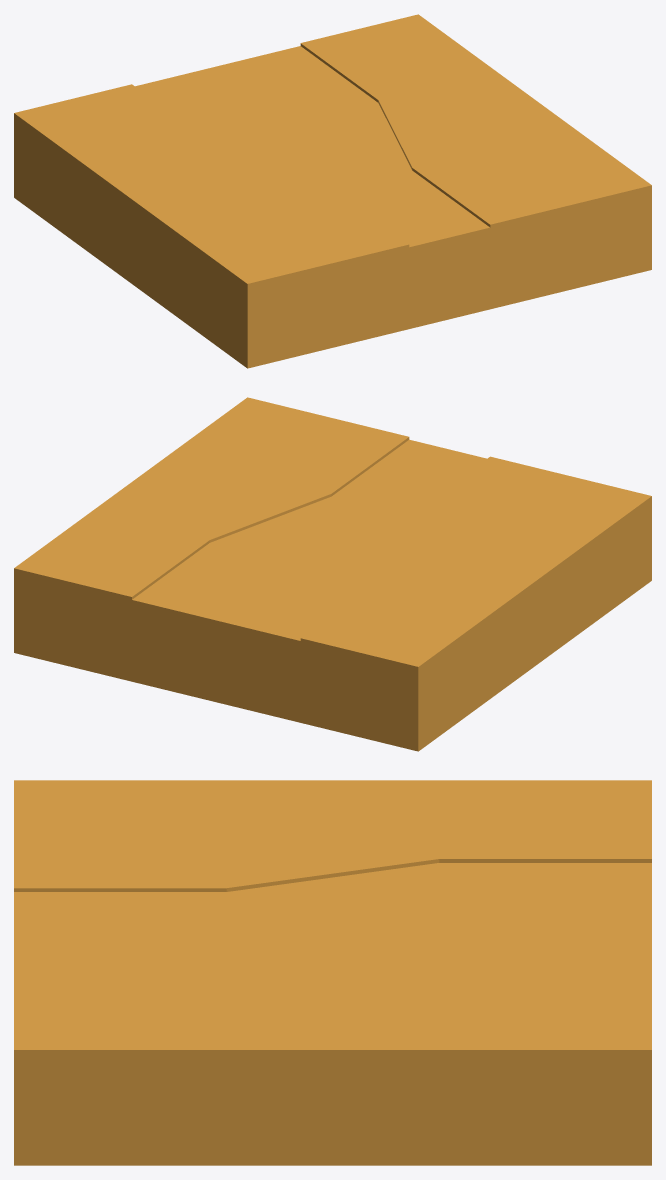
Rendered from tile-road-to-mainroad.glb.
The picture shows the model from 3 angles, top to bottom: view 1: azimuth 30°, elevation 25°; view 2: azimuth 150°, elevation 25°; view 3: azimuth 270°, elevation 25°; orthographic projection. The views are drawn at different scales.
Visible parts, largest first — view 1: tile-road-to-mainroad; view 2: tile-road-to-mainroad; view 3: tile-road-to-mainroad.
Part boxes in pixels (bbox=[...]): tile-road-to-mainroad: bbox=[14, 14, 651, 368]; tile-road-to-mainroad: bbox=[14, 397, 651, 751]; tile-road-to-mainroad: bbox=[14, 780, 651, 1165].
Bounding box in the file's own units: 30 × 6 × 30.
